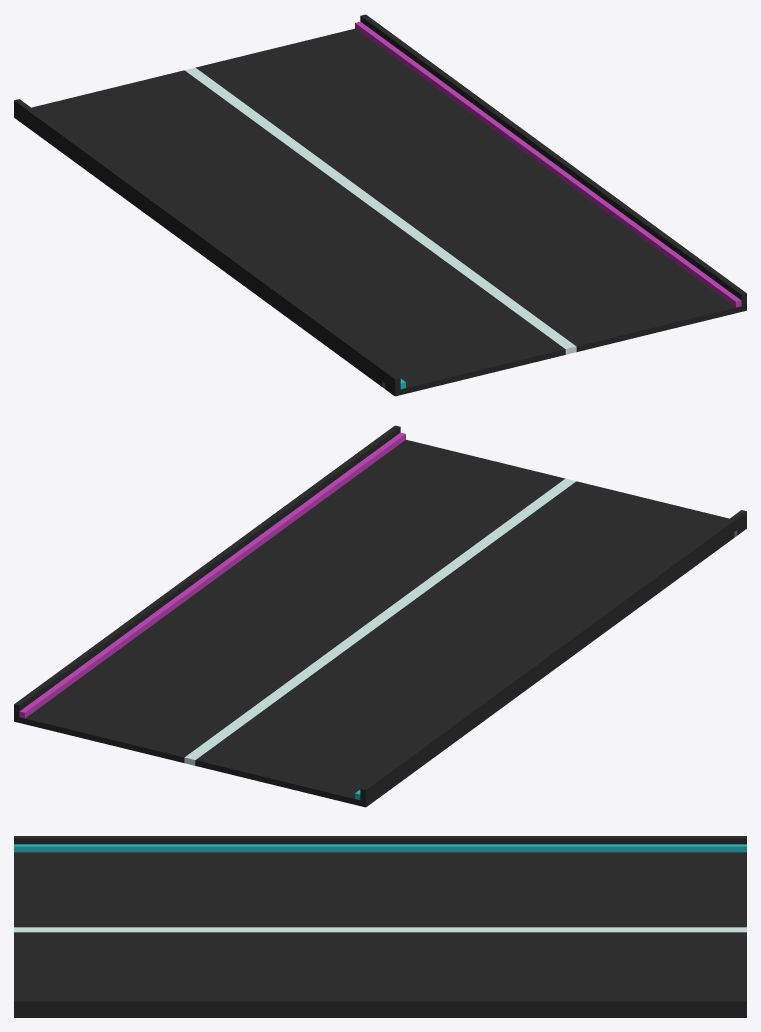
Rendered from SM_Road_6.fbx.
The picture shows the model from 3 angles, top to bottom: view 1: azimuth 30°, elevation 25°; view 2: azimuth 150°, elevation 25°; view 3: azimuth 270°, elevation 25°; orthographic projection. The views are drawn at different scales.
Parts seen in each view (by area): view 1: Road_6; view 2: Road_6; view 3: Road_6.
Boxes of the visible parts, x1,y1,x2,y2 form: Road_6: [14, 14, 746, 396]; Road_6: [14, 425, 746, 807]; Road_6: [14, 836, 746, 1017].
Size of the model in its own units: 1280 by 60 by 2400.
3 materials, 1 textured.
